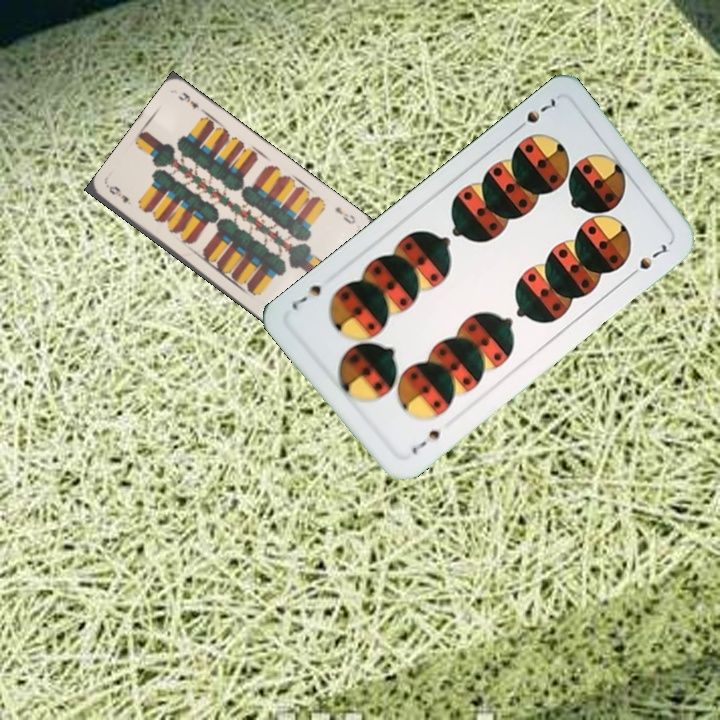E9: (331, 203, 358, 227), (105, 182, 132, 206)
S7: (510, 95, 561, 135), (407, 425, 446, 457)
